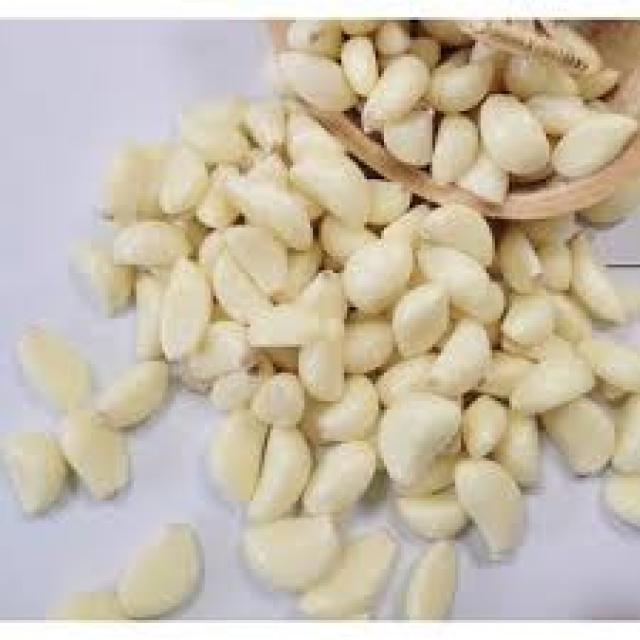garlic: (287, 242, 501, 458), (157, 142, 364, 324), (395, 68, 620, 165)
